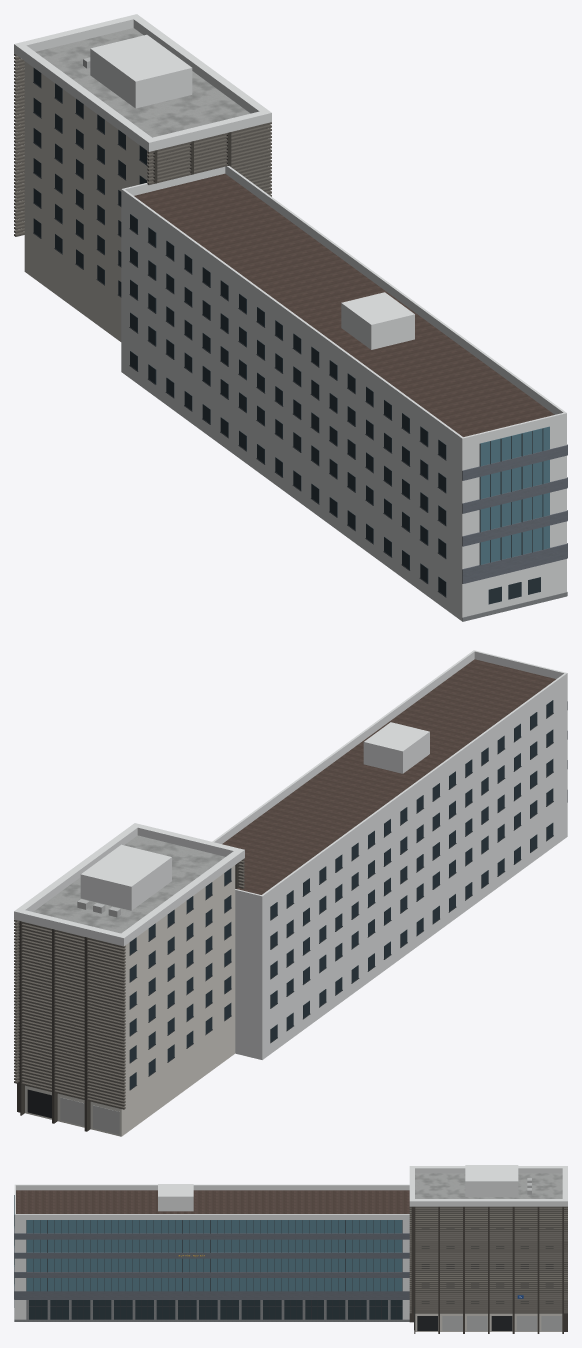
3 renders of one model, top to bottom at view 1: azimuth 30°, elevation 25°; view 2: azimuth 150°, elevation 25°; view 3: azimuth 270°, elevation 25°, orthographic. The views are drawn at different scales.
Parts seen in each view (by area): view 1: TA23; view 2: TA23; view 3: TA23.
Boxes of the visible parts, x1,y1,x2,y2 form: TA23: (14,14,567,621); TA23: (14,650,567,1136); TA23: (14,1165,567,1333).
Bounding box in the file's own units: 16.95 × 26.8 × 93.8.
Materials: 17 (4 with a texture image).
